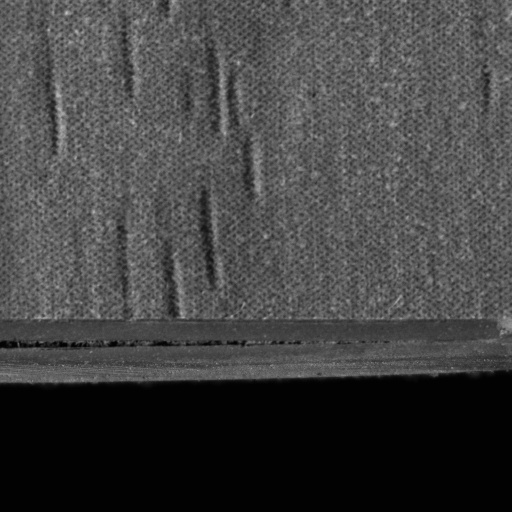kaijiao: (0, 316, 511, 387)
